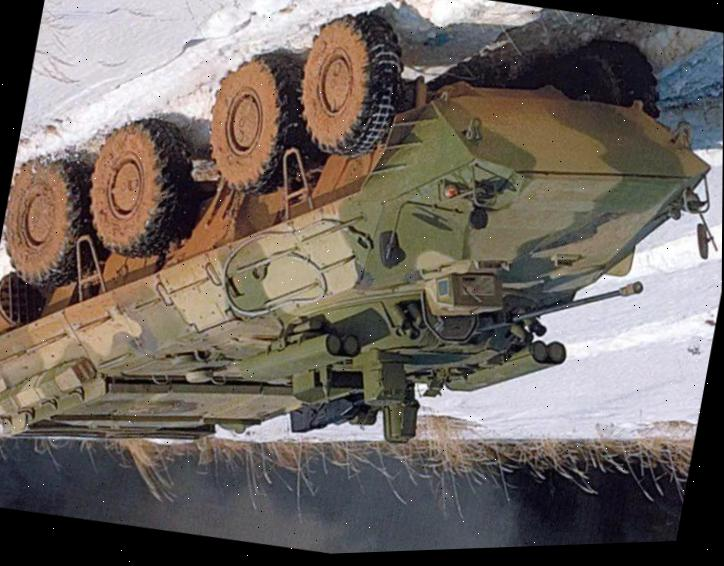tank: (0, 0, 713, 551)
